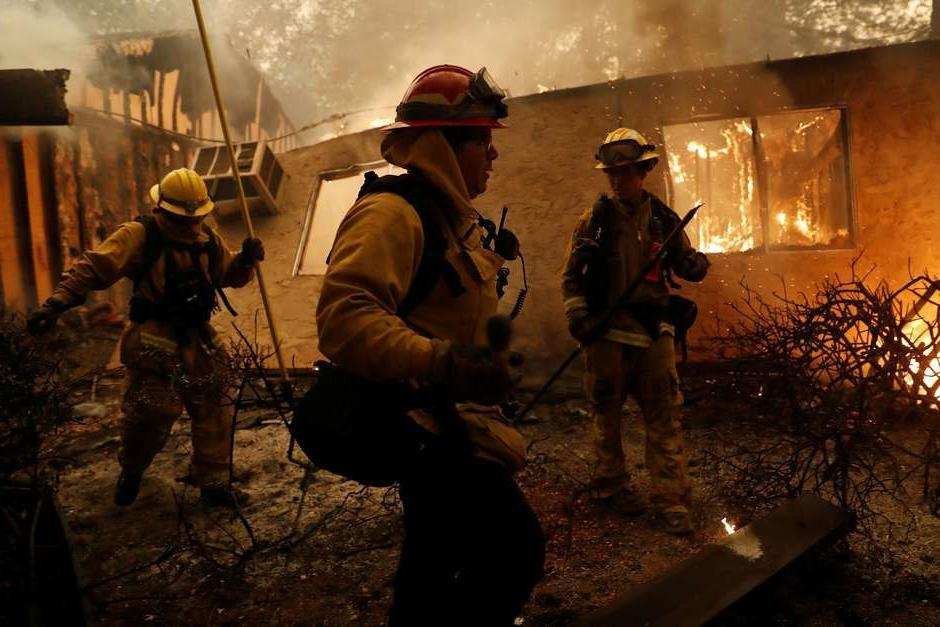Fire: (671, 111, 848, 255), (901, 315, 940, 407), (714, 512, 748, 542)
